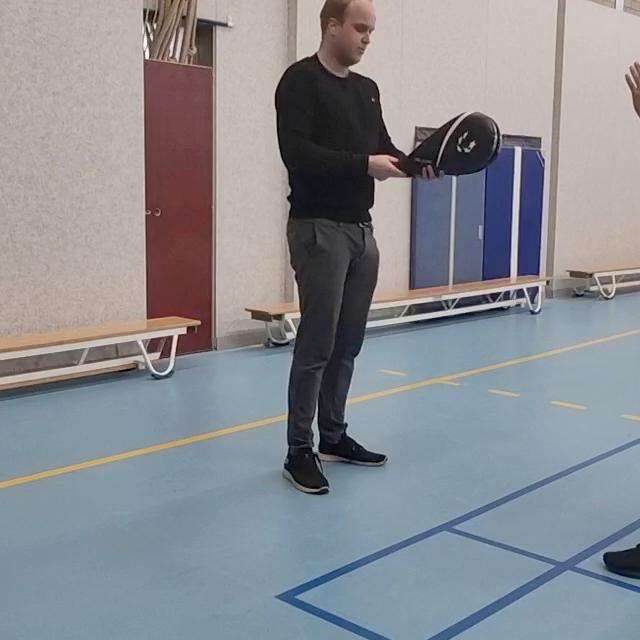paddle: (393, 105, 502, 185)
